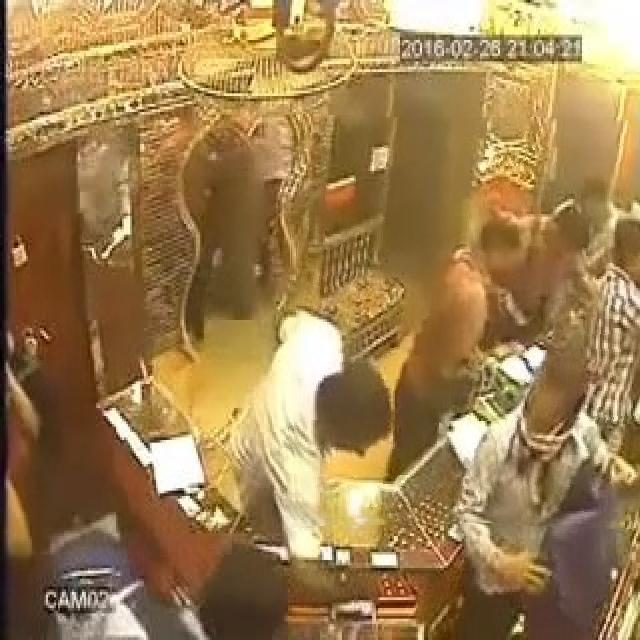Shoplifting: (289, 117, 640, 526)
